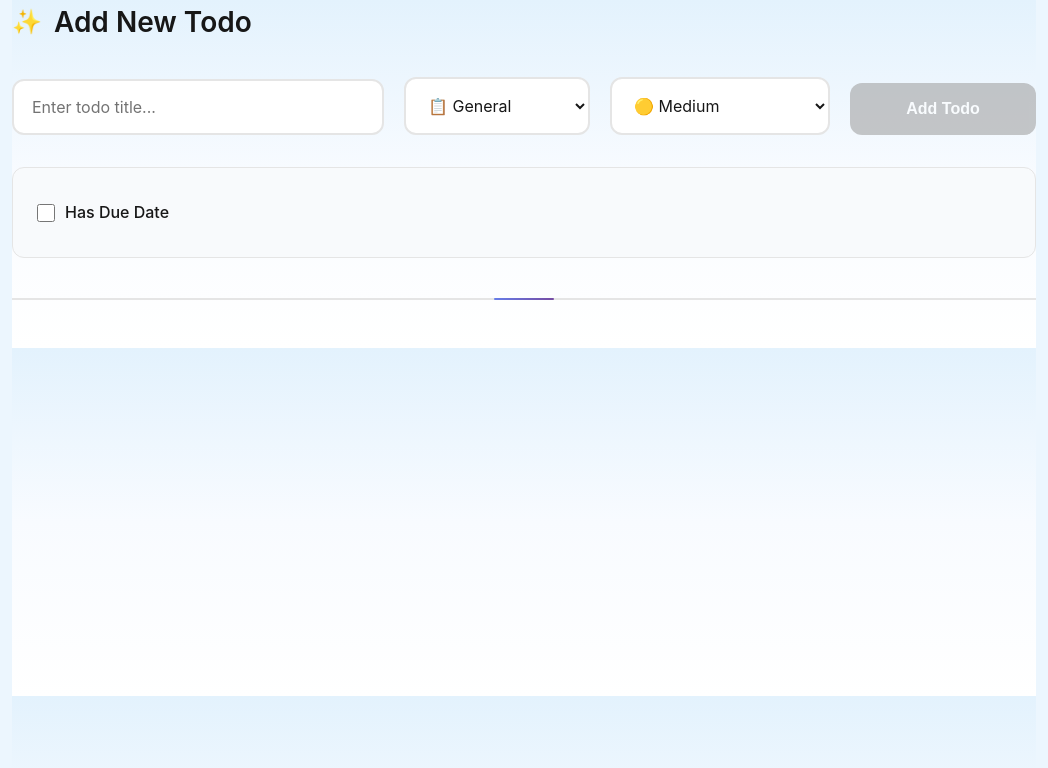
TodoForm with Due Date › shows loading state during submission
The width and height of the screenshot is (1048, 768).
Type "Loading Test" into the field with placeholder "Enter todo title..." at (198,107), box [12,79,384,135]
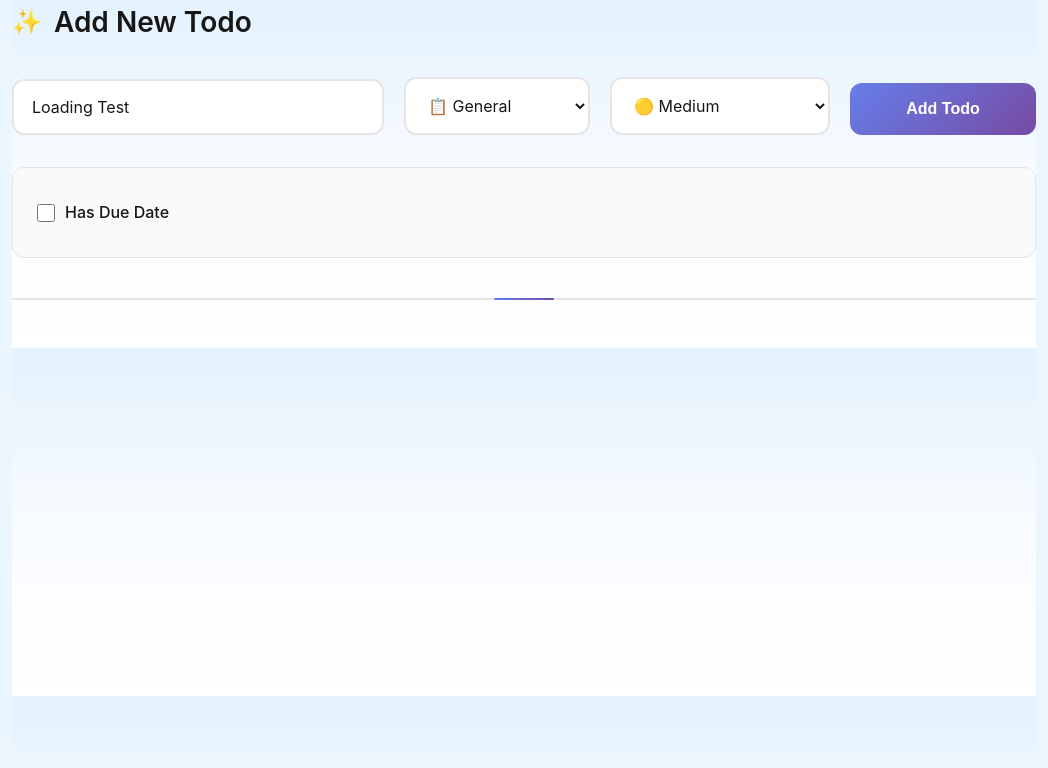
Click the button "Add Todo" at (943,109), box [850,83,1036,135]
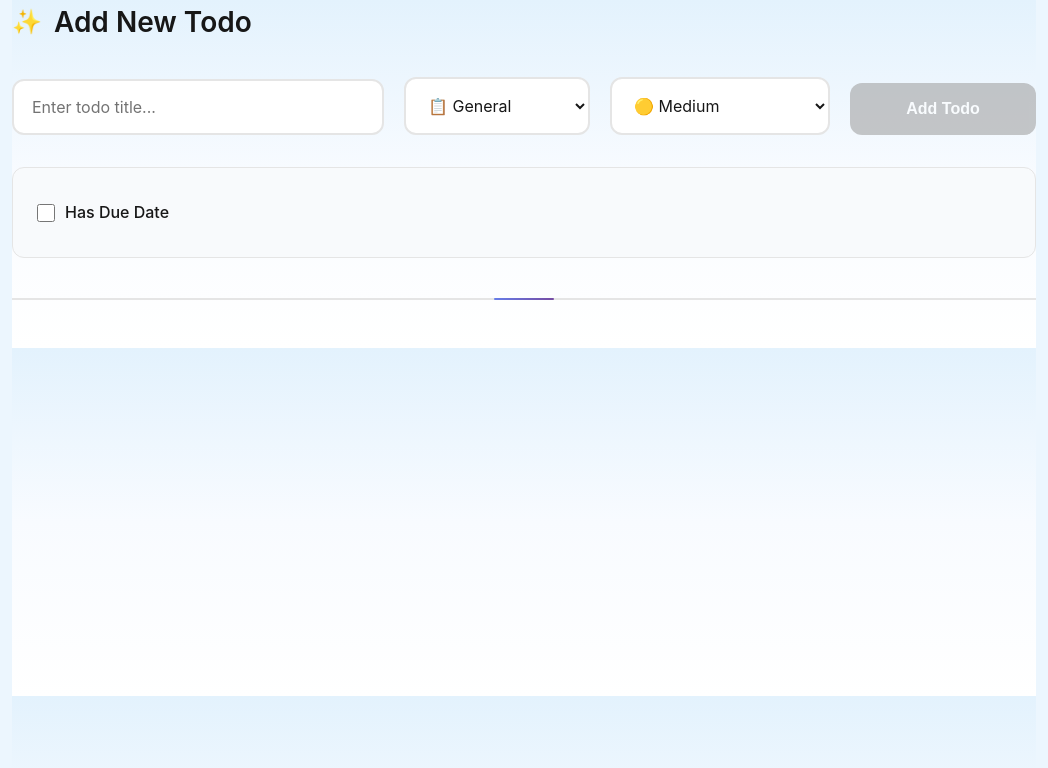
Now the button "Adding..." is disabled, box [850,83,1036,135]
